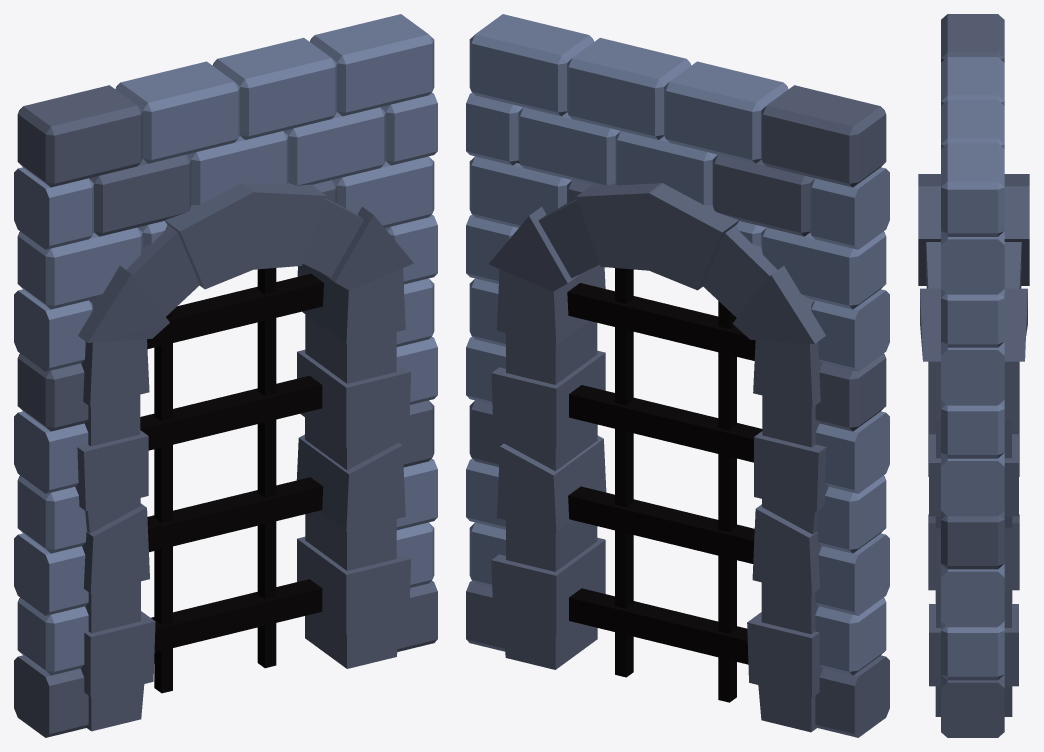
The model's file is door_wall_bars_1.glb.
The picture shows the model from 3 angles, left to right: view 1: azimuth 30°, elevation 25°; view 2: azimuth 150°, elevation 25°; view 3: azimuth 270°, elevation 25°; orthographic projection. The views are drawn at different scales.
Parts seen in each view (by area): view 1: bars.001; view 2: bars.001; view 3: bars.001.
Boxes of the visible parts, x1=… form: bars.001: x1=14, y1=14, x2=437, y2=737; bars.001: x1=466, y1=14, x2=889, y2=737; bars.001: x1=918, y1=14, x2=1029, y2=737.
Size of the model in its own units: 2 by 3 by 0.5465.
